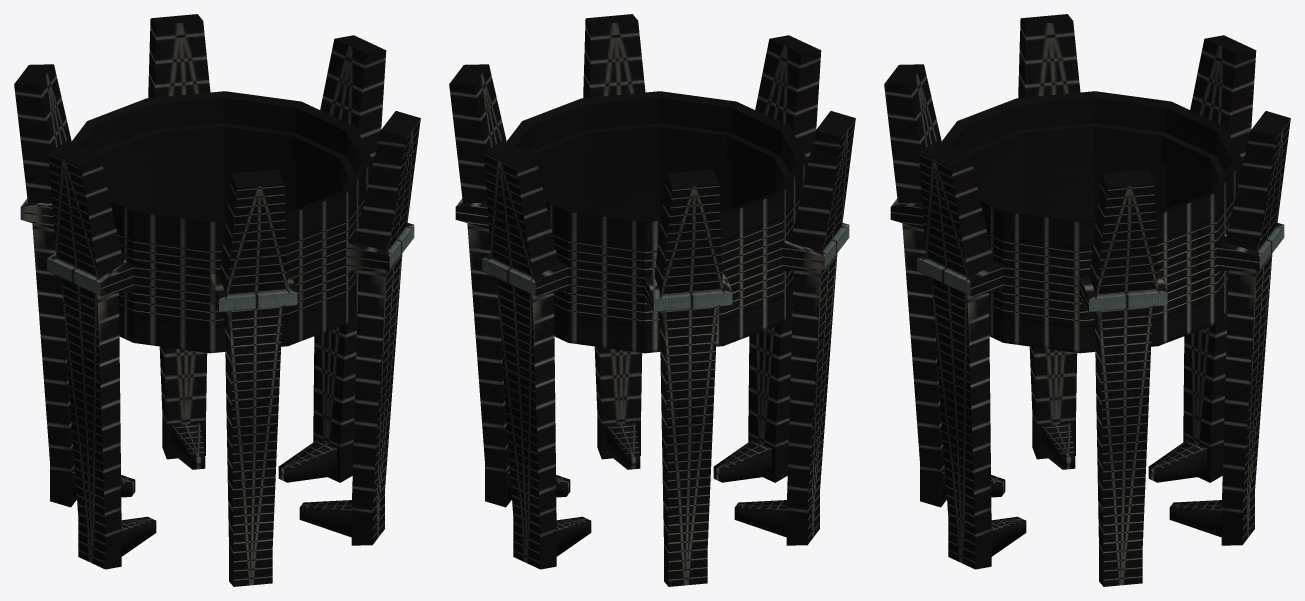
Rendered from JumpPoint.fbx.
3 renders of one model, left to right at view 1: azimuth 30°, elevation 25°; view 2: azimuth 150°, elevation 25°; view 3: azimuth 270°, elevation 25°, orthographic.
Parts seen in each view (by area): view 1: Outter; view 2: Outter; view 3: Outter.
Boxes of the visible parts, left/top/right/bottom form: Outter: left=14, top=14, right=420, bottom=586; Outter: left=449, top=14, right=855, bottom=586; Outter: left=884, top=14, right=1290, bottom=586.
Bounding box in the file's own units: 2150 × 2422 × 2119.
